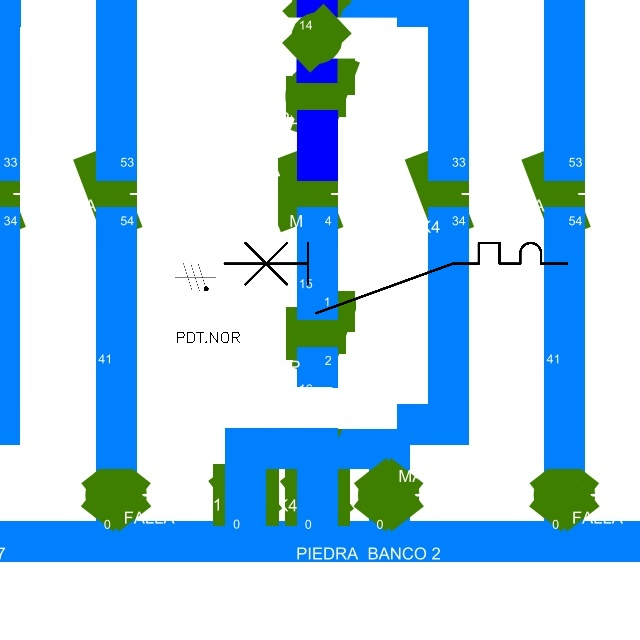interruptor_termomagnetico: (215, 234, 575, 322)
